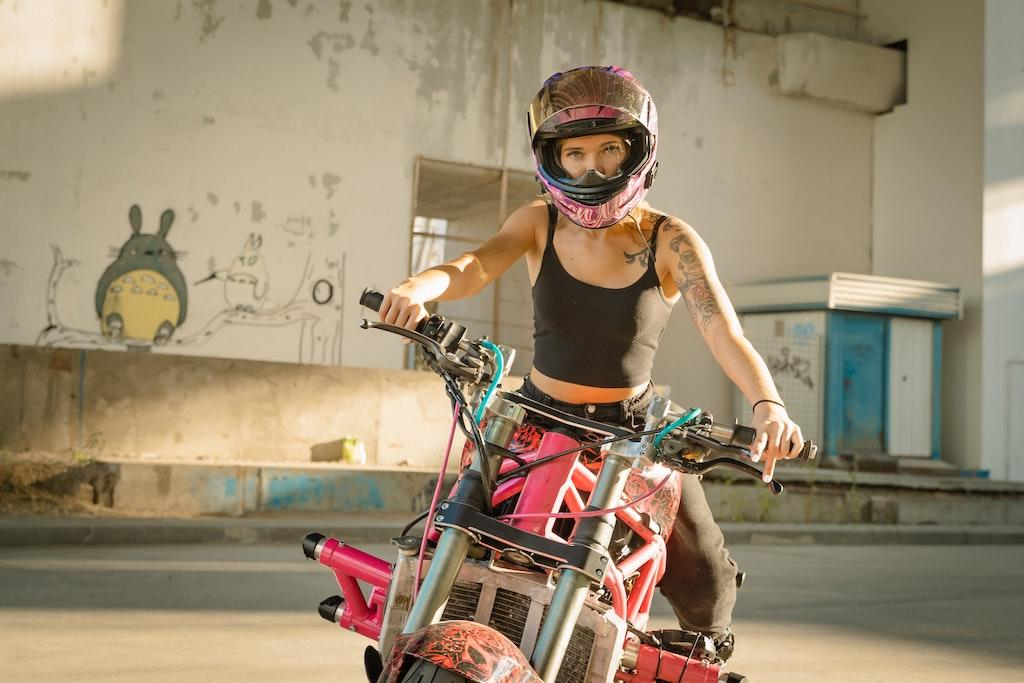helmet: (525, 64, 660, 230)
